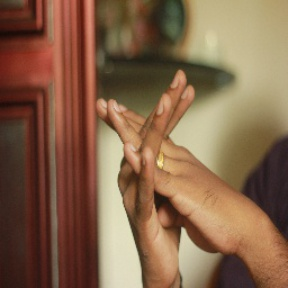W: (94, 60, 217, 246)
